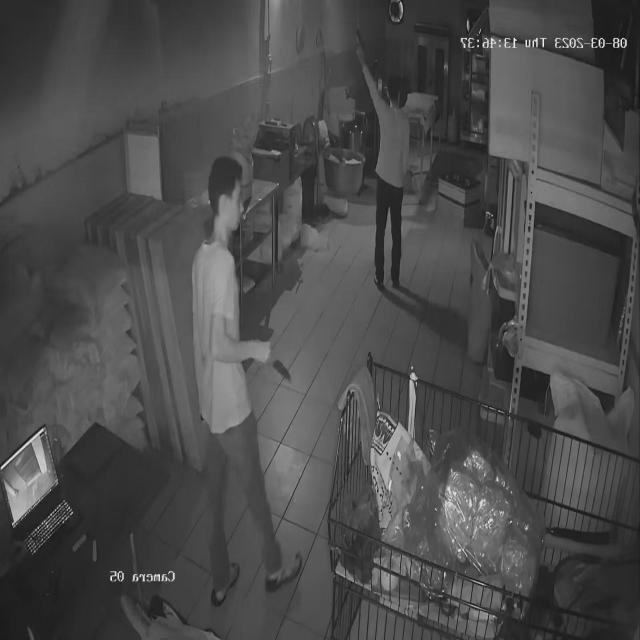Gun: (341, 14, 370, 66)
Knife: (262, 339, 306, 388)
